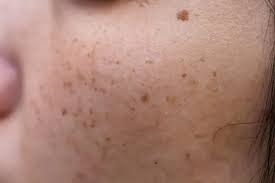Melasma: (46, 4, 237, 183)
